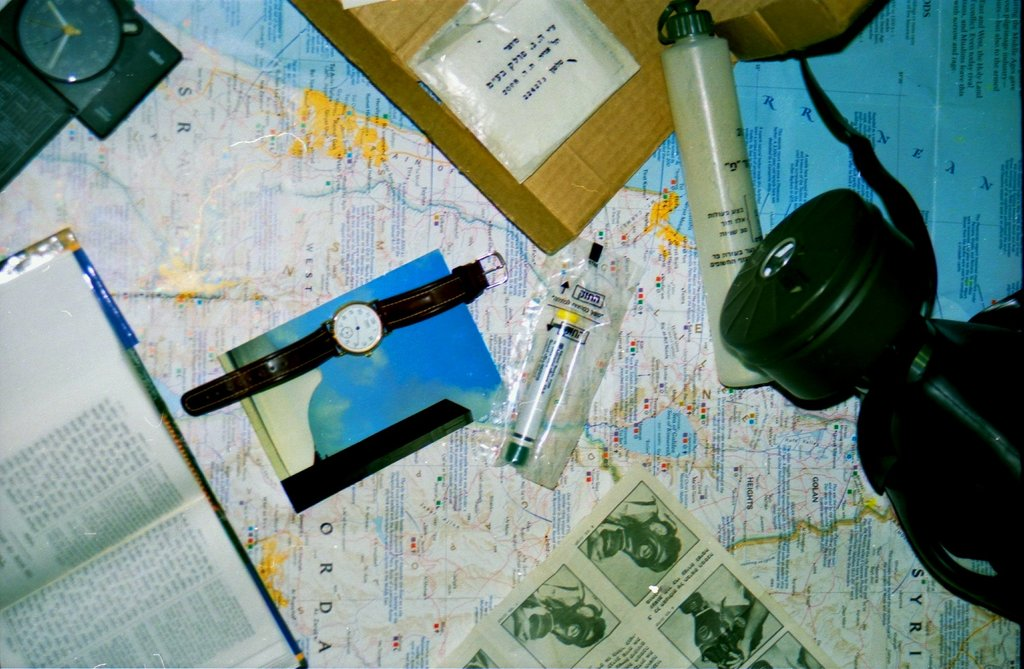watch: (177, 248, 511, 420)
